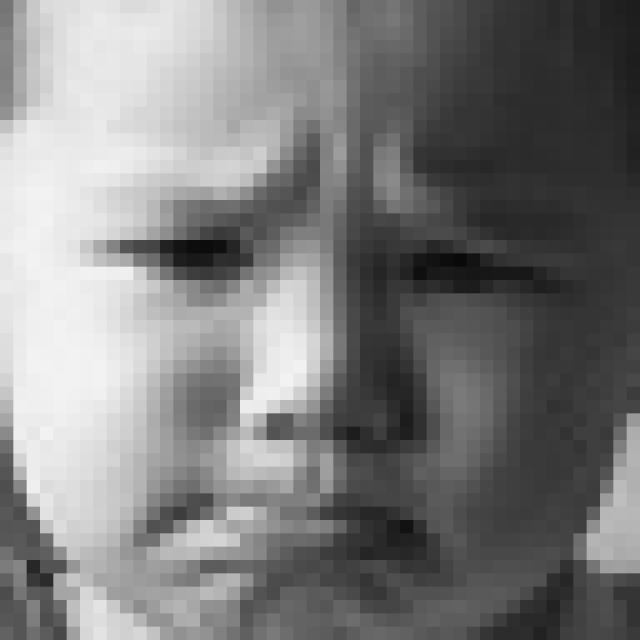sad: (76, 116, 582, 607)
